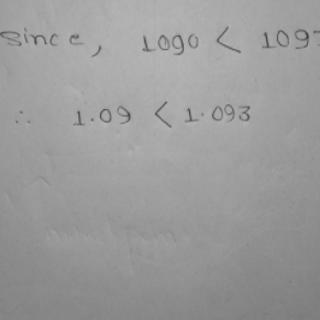.: (197, 109, 209, 118), (87, 113, 96, 125)
0: (275, 29, 292, 50), (98, 106, 113, 124), (158, 34, 172, 53), (186, 33, 199, 50), (211, 105, 222, 122)
1: (259, 31, 275, 52), (141, 34, 155, 56), (185, 107, 197, 124), (73, 110, 85, 126)
3: (237, 103, 253, 122)
9: (294, 27, 311, 52), (222, 103, 239, 124), (173, 34, 185, 55), (117, 106, 132, 122)
